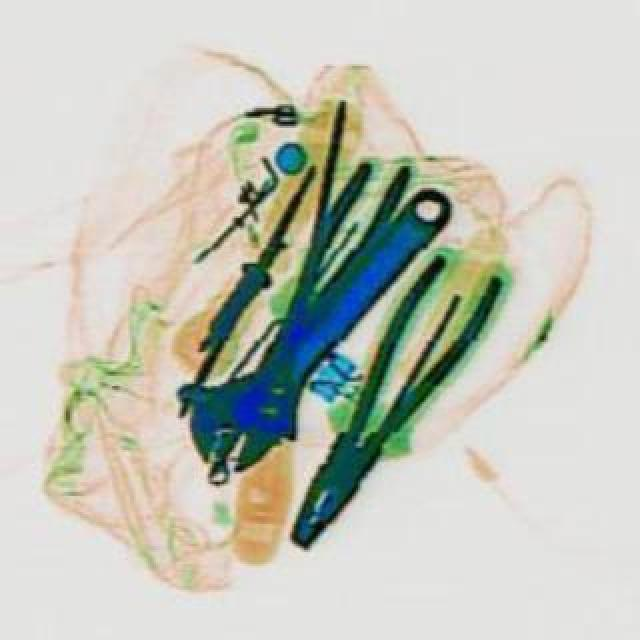scissors: (160, 156, 480, 490)
wrench: (264, 242, 504, 564)
